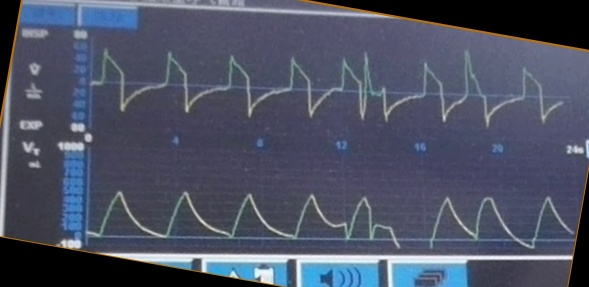Double_Triggering Flow: (105, 46, 555, 133)
Double_Triggering Volume: (116, 181, 555, 251)
